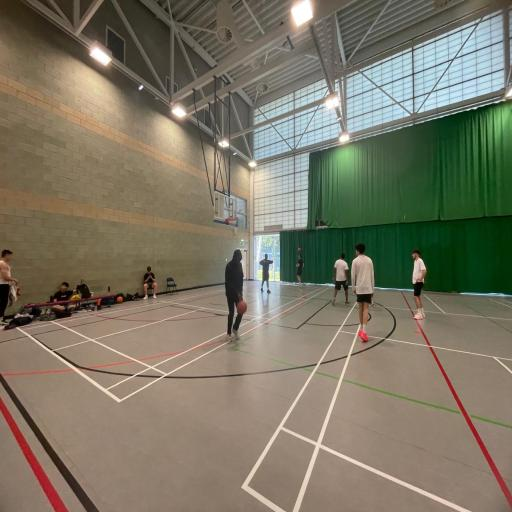hoops: (224, 215, 240, 234)
